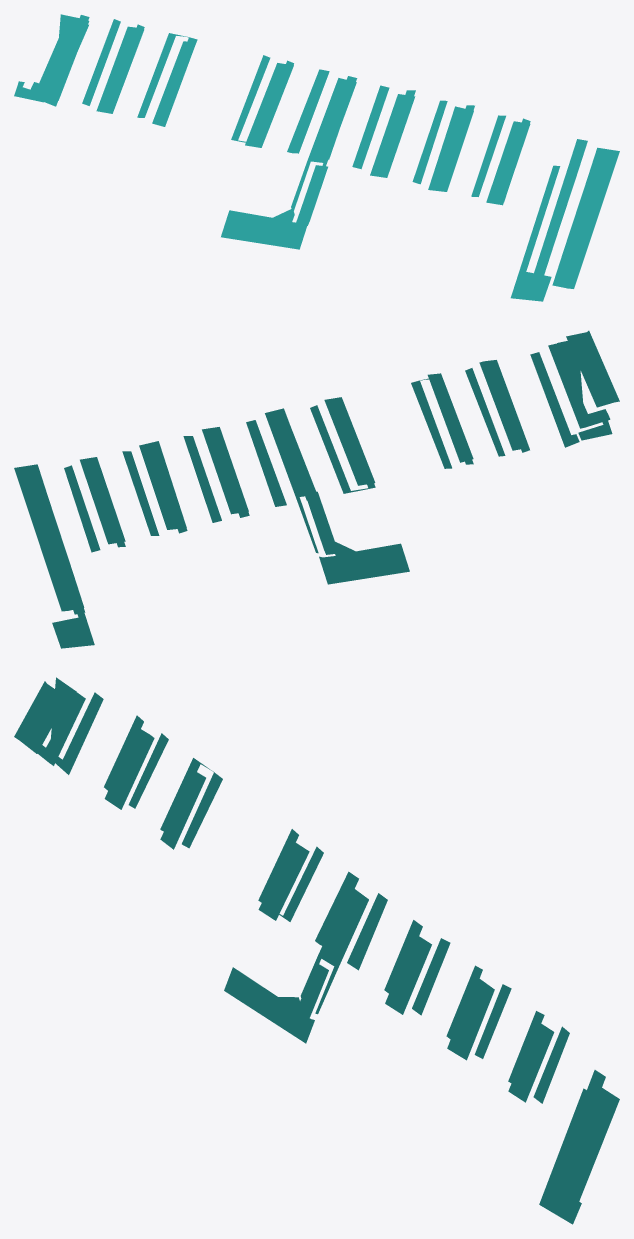
File: Roof_Hini_0.0_Slope_1.5.obj
The picture shows the model from 3 angles, top to bottom: view 1: azimuth 30°, elevation 25°; view 2: azimuth 150°, elevation 25°; view 3: azimuth 330°, elevation 25°; orthographic projection. The views are drawn at different scales.
Visible parts, largest first — view 1: 1, 5, 9, 4, 3, 8, 6, 2, 7; view 2: 5, 9, 1, 4, 3, 6, 2, 8, 7; view 3: 5, 1, 9, 3, 4, 6, 8, 2, 7.
Boxes of the visible parts, x1,y1,x2,y2 form: 1: [510, 139, 619, 301]; 5: [221, 69, 357, 249]; 9: [14, 14, 89, 106]; 4: [412, 100, 474, 191]; 3: [352, 85, 415, 177]; 8: [82, 19, 144, 113]; 6: [231, 55, 293, 147]; 2: [471, 115, 530, 205]; 7: [137, 33, 197, 126]; 5: [246, 408, 409, 584]; 9: [530, 330, 619, 447]; 1: [14, 464, 94, 648]; 4: [122, 441, 187, 535]; 3: [183, 427, 249, 522]; 6: [310, 397, 375, 493]; 2: [64, 457, 125, 552]; 8: [465, 360, 529, 456]; 7: [411, 373, 473, 468]; 5: [224, 871, 387, 1043]; 1: [539, 1070, 619, 1224]; 9: [14, 677, 103, 774]; 3: [384, 920, 450, 1015]; 4: [446, 965, 511, 1060]; 6: [258, 829, 323, 921]; 8: [104, 715, 168, 809]; 2: [508, 1011, 569, 1103]; 7: [160, 758, 222, 849].
Bounding box in the file's own units: 136 × 91.5 × 8.34.
